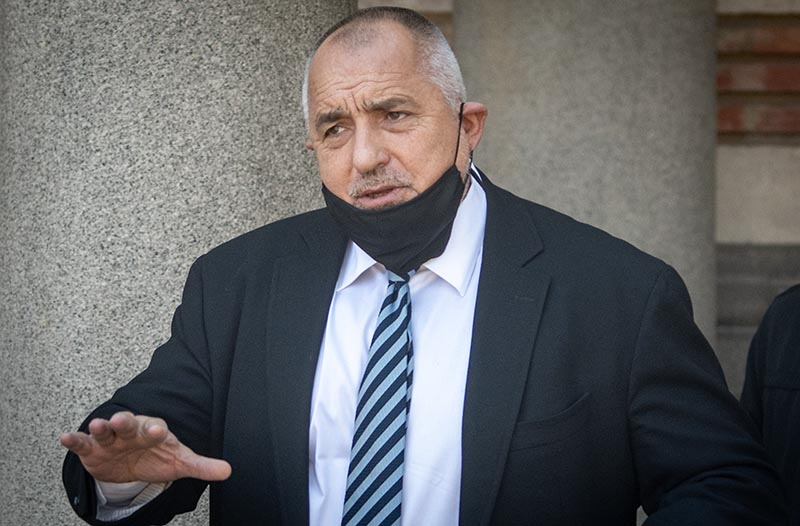WrongMask: (309, 136, 482, 258)
